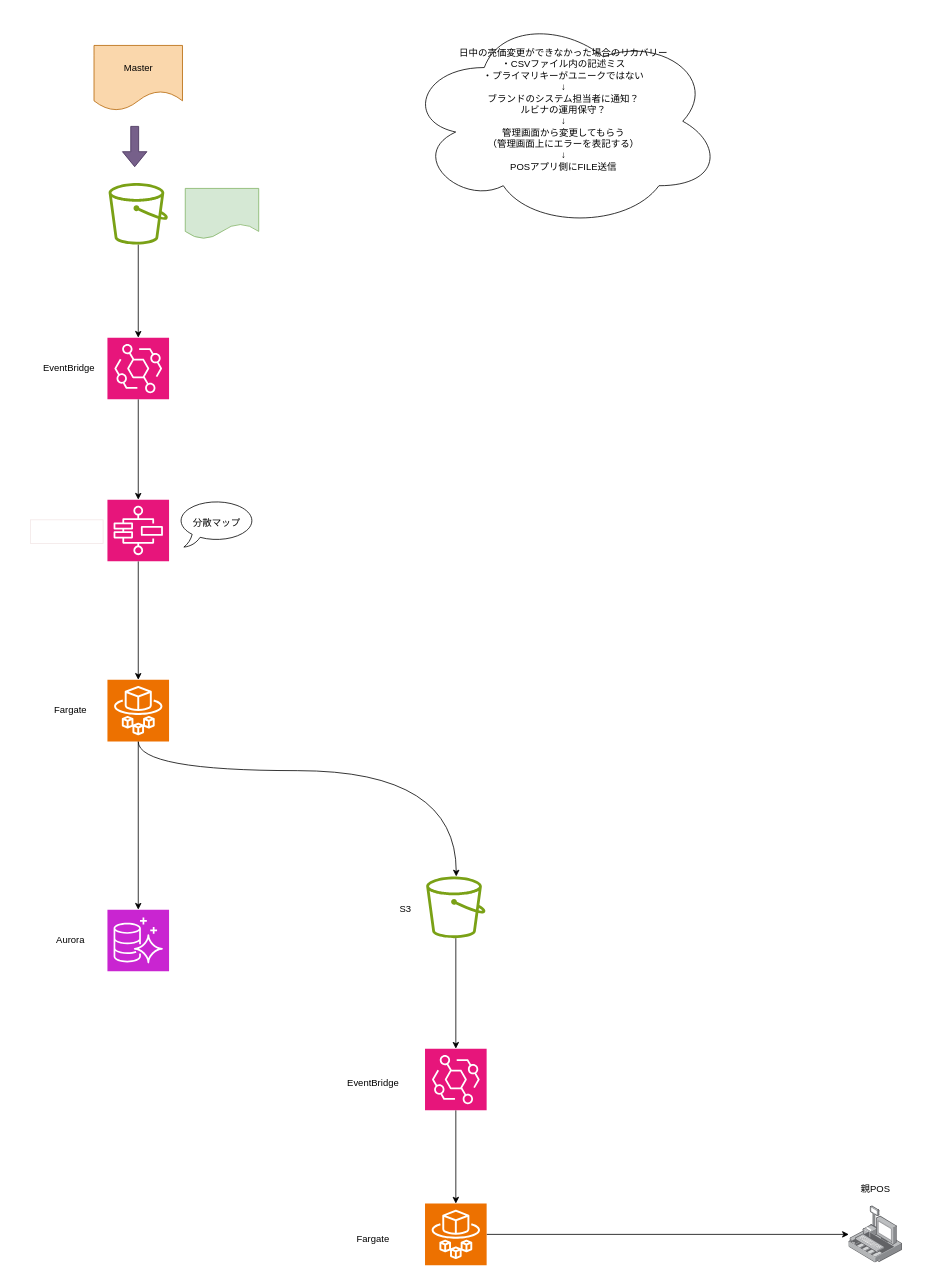
Image size: 944x1279. Some labels were removed from this diagram. The shapes that lost their labels are listed below. From the top down, each one's centre as x and y in pixels, then its label:
(x=221, y=213): ENDファイル
(x=66, y=531): Step Fuctions
